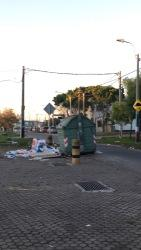Dechets: (4, 135, 60, 160)
Trash: (58, 115, 95, 153)
